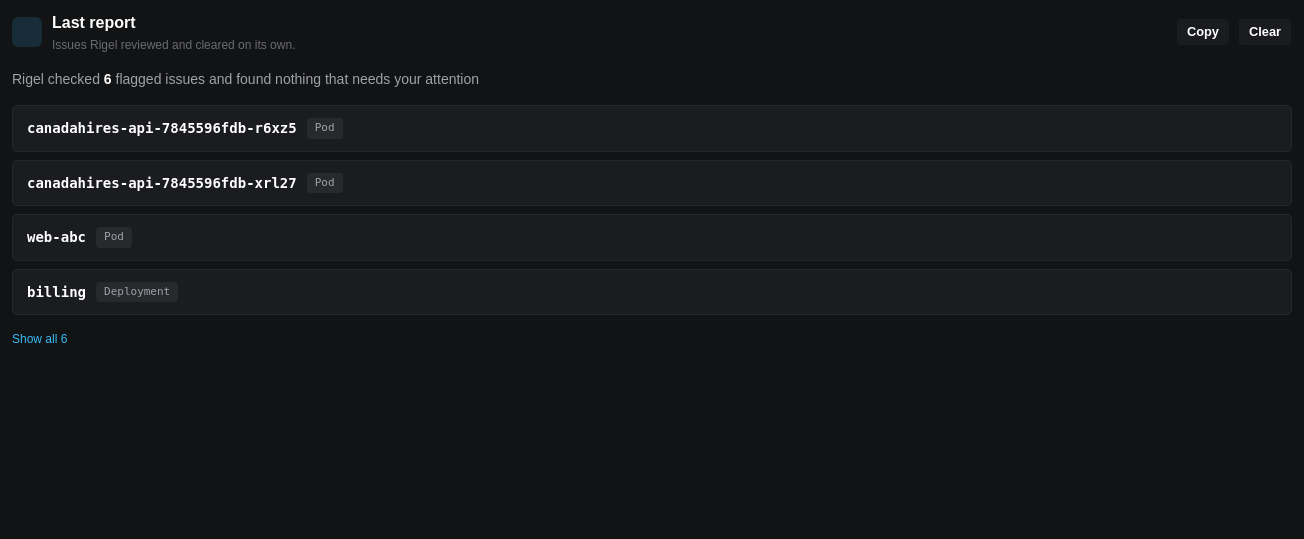
LastReportCard › expands a row to reveal what was skipped
This screenshot has width=1304, height=539.
Click the text "web-abc" at coordinates (56, 237), box [27,227,86,247]
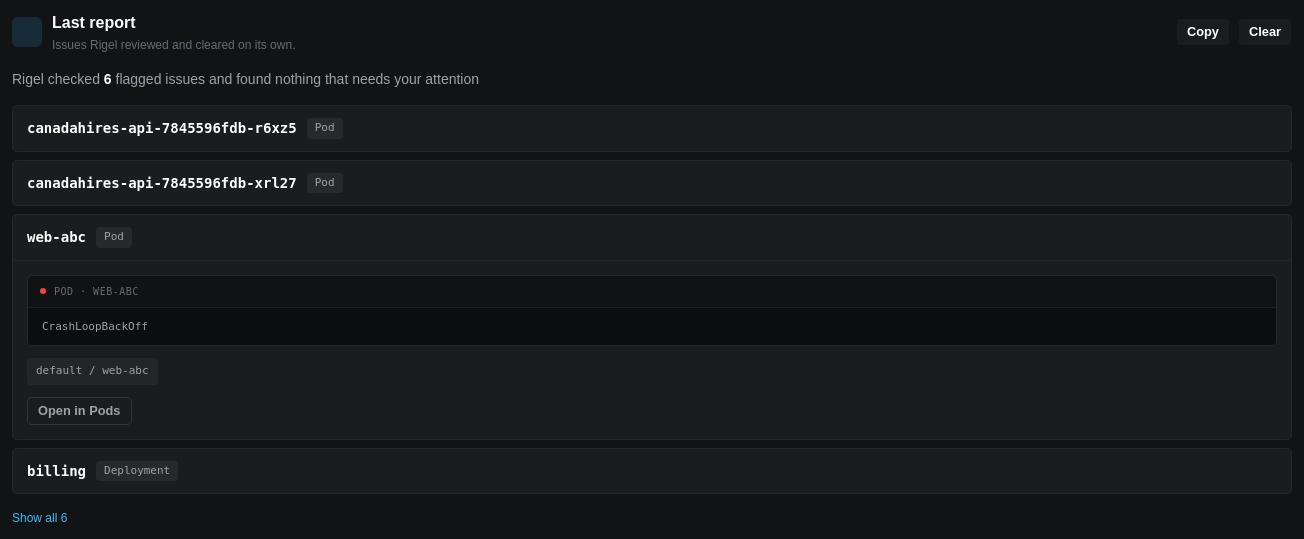
Expected: the text "default / web-abc" is shown, [27,358,158,385]
Expected: the text "CrashLoopBackOff" is shown, [42,320,148,332]
